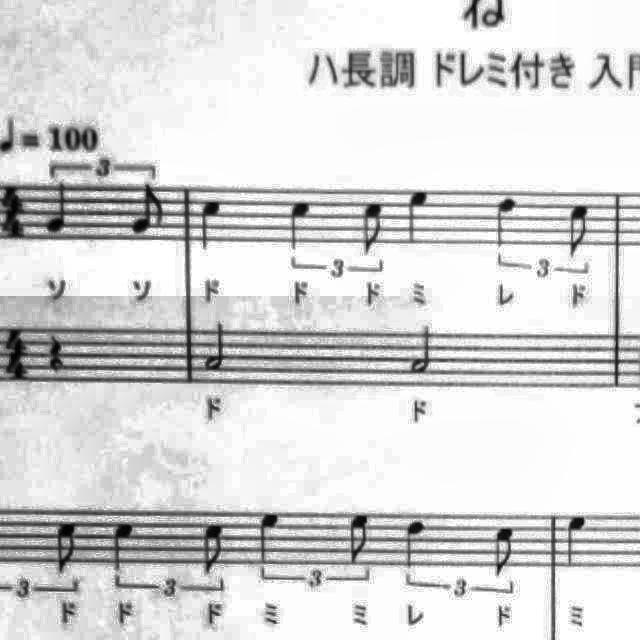Eighth-note: (127, 179, 169, 241), (560, 199, 598, 265), (354, 197, 391, 261), (342, 506, 378, 570), (50, 515, 84, 581), (486, 522, 522, 582), (196, 520, 232, 580)
Half-note: (404, 320, 441, 380), (200, 318, 232, 376)
Quarter-note: (399, 182, 437, 250), (487, 188, 525, 252), (193, 191, 229, 257), (280, 194, 318, 256), (252, 506, 288, 570), (558, 511, 594, 575), (104, 515, 140, 577), (398, 511, 434, 573), (43, 177, 77, 239)
Quarter-rest: (44, 330, 72, 378)
